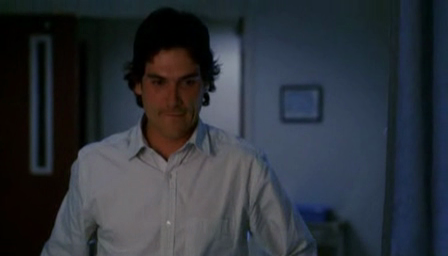face: (142, 57, 202, 140)
mcu: (1, 1, 448, 256)
person: (41, 7, 319, 256)
